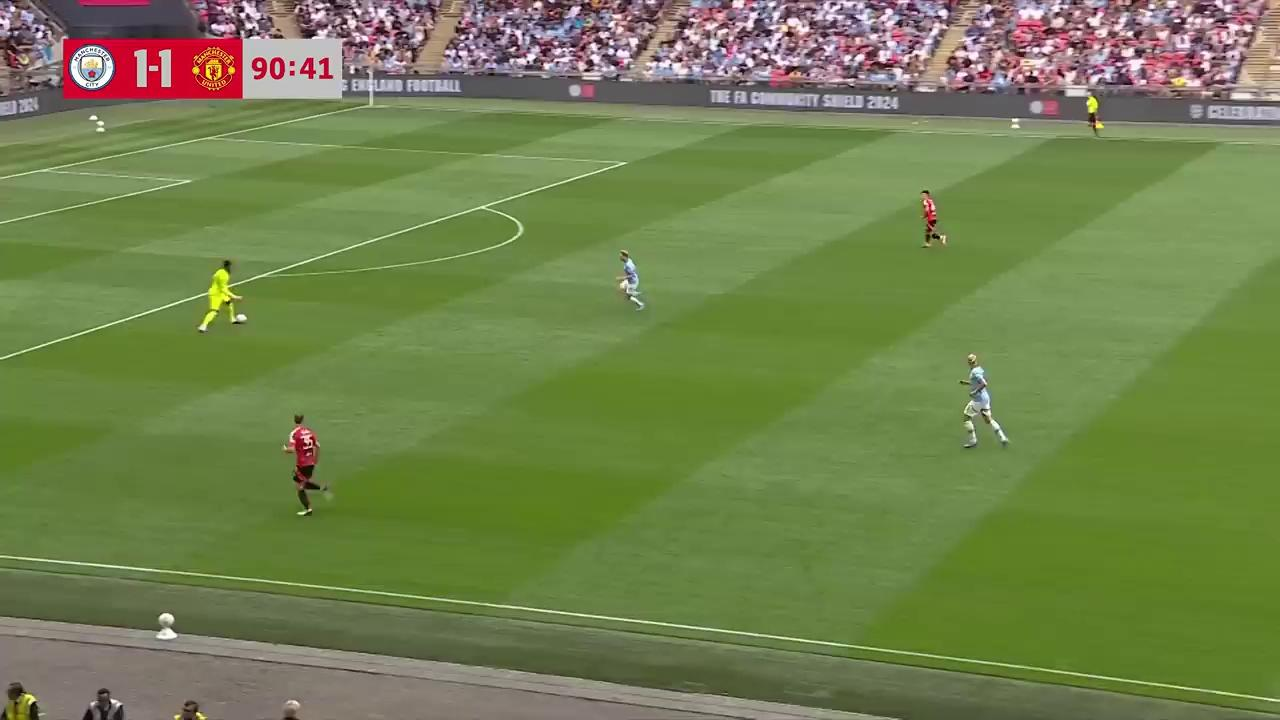ball: (234, 310, 247, 324)
player: (283, 413, 331, 516), (960, 357, 1009, 448), (197, 260, 244, 332), (617, 250, 644, 310), (920, 190, 946, 248)
referee: (1085, 92, 1103, 137)
